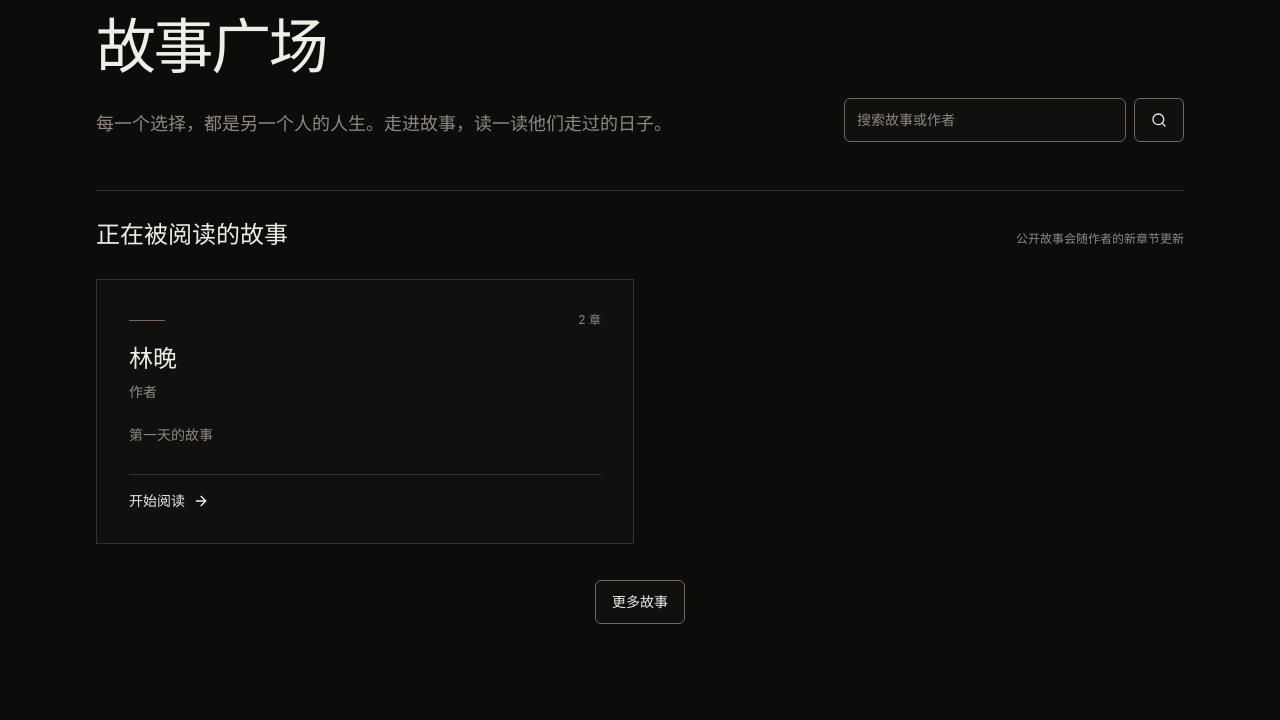
Test: keeps loaded stories visible and retries the failed next page
The width and height of the screenshot is (1280, 720).
(page scrolled)
Check: the link with aria-label "阅读林晚" is shown, box x1=96 y1=279 x2=634 y2=544
Click the button "更多故事". click: {"x": 640, "y": 602}
box: x1=595 y1=580 x2=685 y2=624
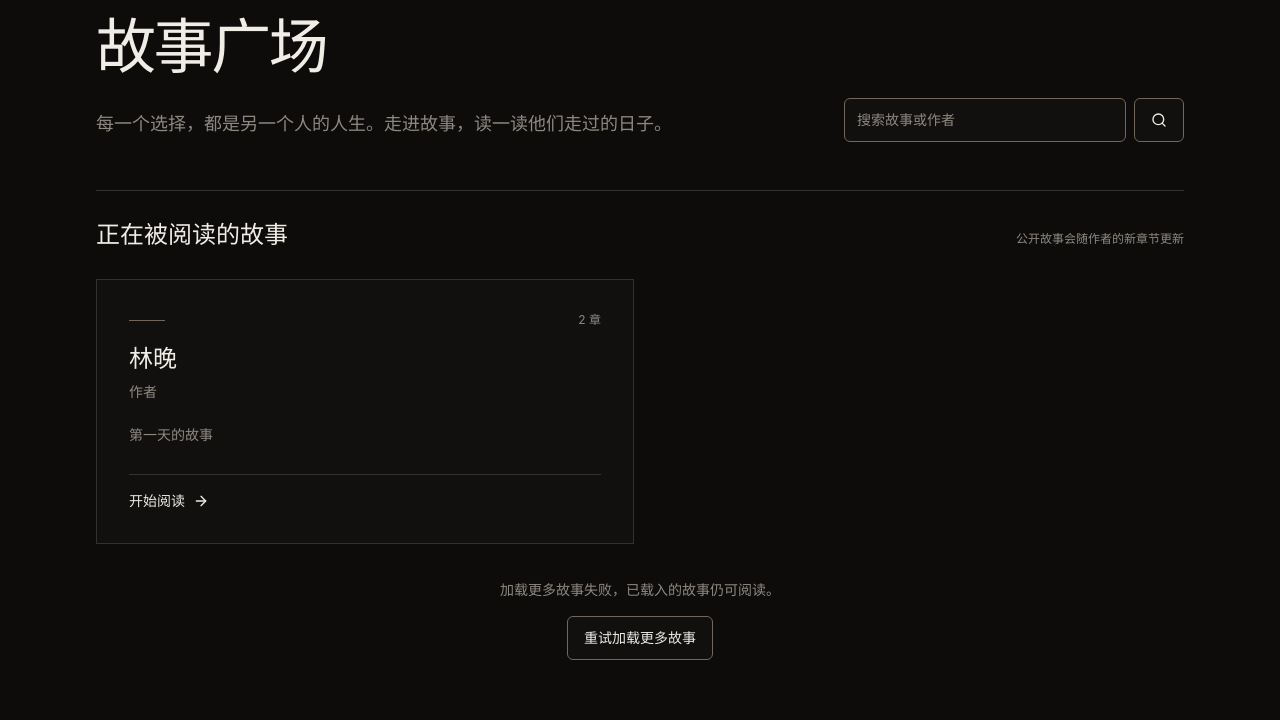
Check: the link with aria-label "阅读林晚" is shown, box x1=96 y1=279 x2=634 y2=544
Check: the message shows "加载更多故事失败", box x1=500 y1=581 x2=780 y2=598
Click the button "重试加载更多故事". click: {"x": 640, "y": 638}
box: x1=567 y1=616 x2=713 y2=660
(page scrolled)
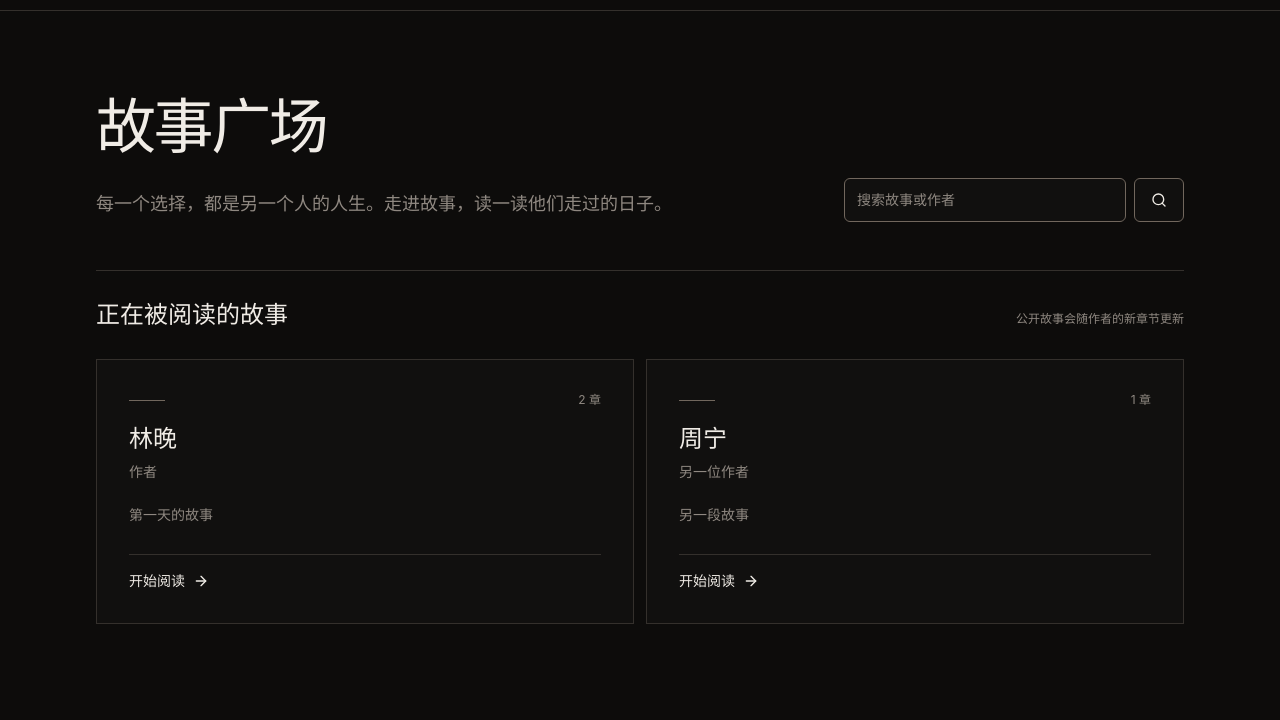
Check: the link with aria-label "阅读周宁" is shown, box x1=646 y1=359 x2=1184 y2=624
